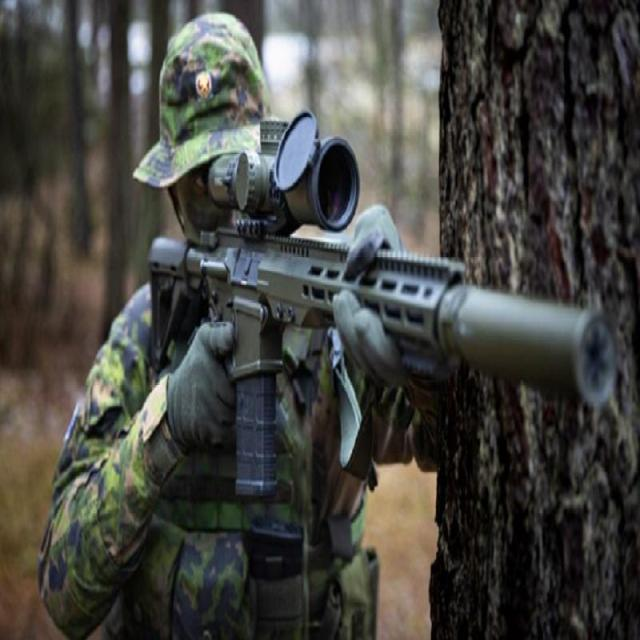Rifle: (150, 113, 621, 498)
